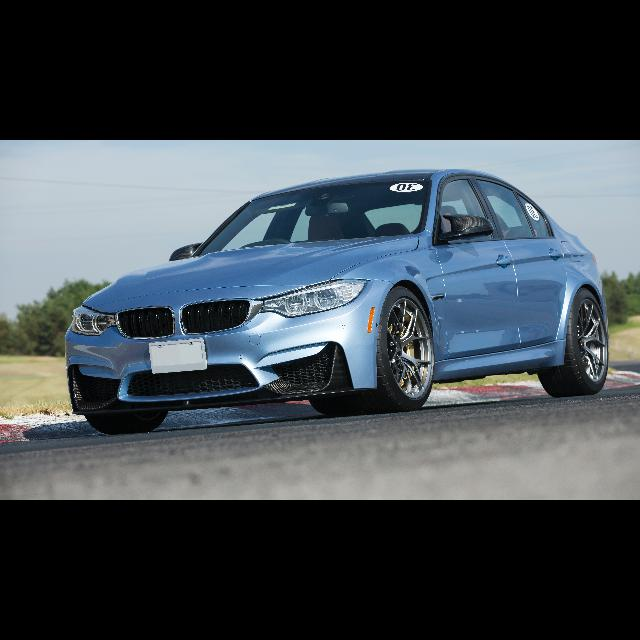cars: (59, 165, 610, 442)
